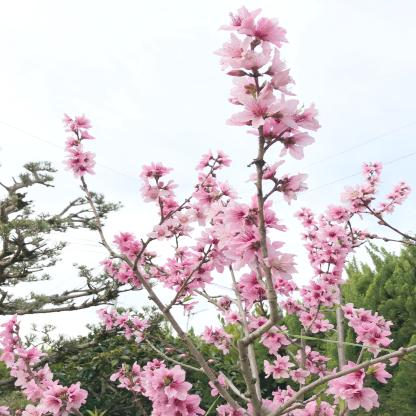Momo: (1, 5, 415, 416)
